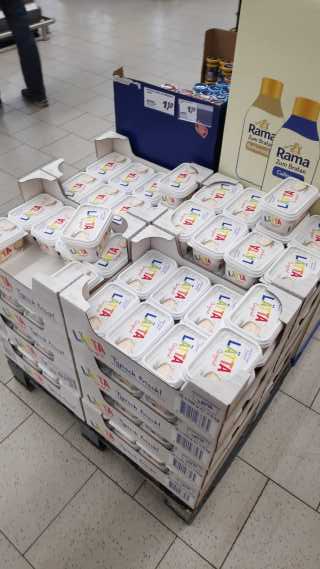laetta: (185, 325, 264, 388), (141, 322, 210, 387), (105, 301, 174, 358), (227, 283, 289, 345), (258, 175, 319, 237), (223, 230, 283, 289), (188, 214, 248, 269), (150, 265, 210, 319), (61, 204, 116, 260), (183, 283, 242, 334), (115, 249, 177, 297), (259, 246, 320, 293), (82, 282, 138, 332), (31, 206, 78, 254), (7, 191, 60, 233), (84, 233, 134, 277), (157, 161, 200, 207), (169, 199, 214, 241), (191, 175, 243, 211), (223, 187, 267, 226), (85, 149, 131, 178), (108, 161, 155, 189), (1, 218, 28, 263)
